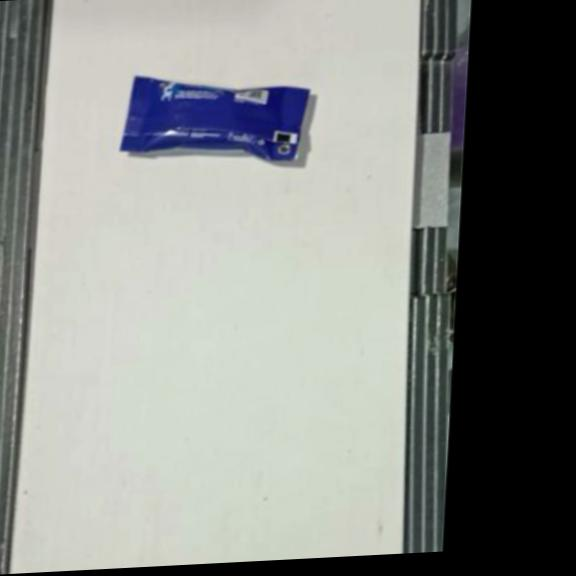Plastik: (119, 65, 312, 169)
